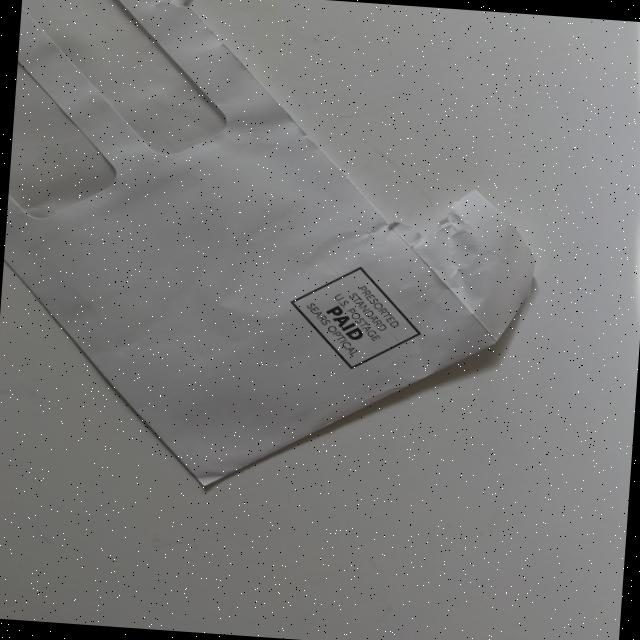paper: (0, 0, 554, 511)
